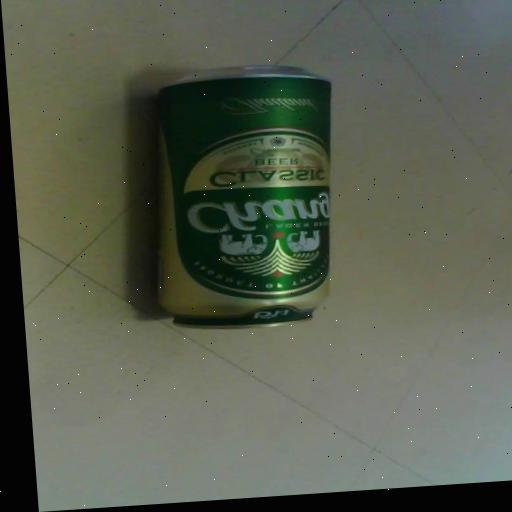canned: (108, 50, 367, 348)
